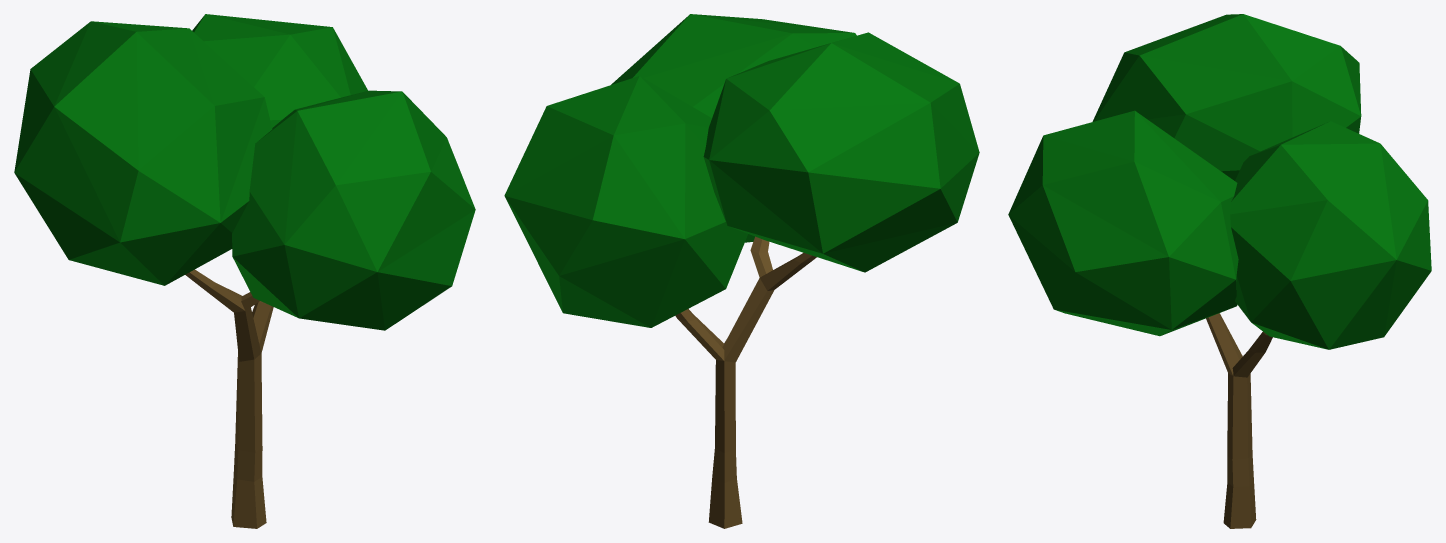
The model's file is Tree-01-C.fbx.
The picture shows the model from 3 angles, left to right: view 1: azimuth 30°, elevation 25°; view 2: azimuth 150°, elevation 25°; view 3: azimuth 270°, elevation 25°; orthographic projection. The views are drawn at different scales.
Parts seen in each view (by area): view 1: Trees-01-C; view 2: Trees-01-C; view 3: Trees-01-C.
Part boxes in pixels (x1=…): Trees-01-C: x1=14, y1=14, x2=475, y2=528; Trees-01-C: x1=504, y1=14, x2=979, y2=528; Trees-01-C: x1=1008, y1=14, x2=1431, y2=528.
Size of what is drawn, in the model's own units: 6.65 by 8.46 by 7.04.
